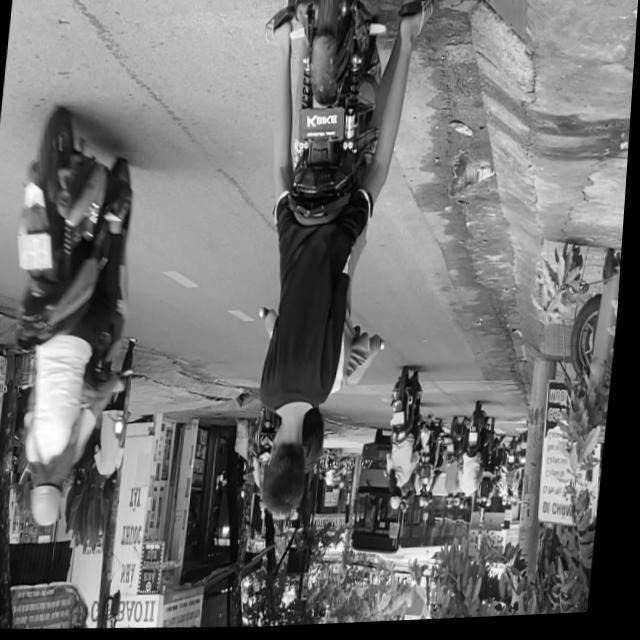helmet: (32, 465, 72, 529)
licenseplate: (223, 0, 428, 533), (0, 105, 153, 535)
motorcyclist: (260, 419, 320, 525)
nohelmet: (17, 234, 55, 271)
